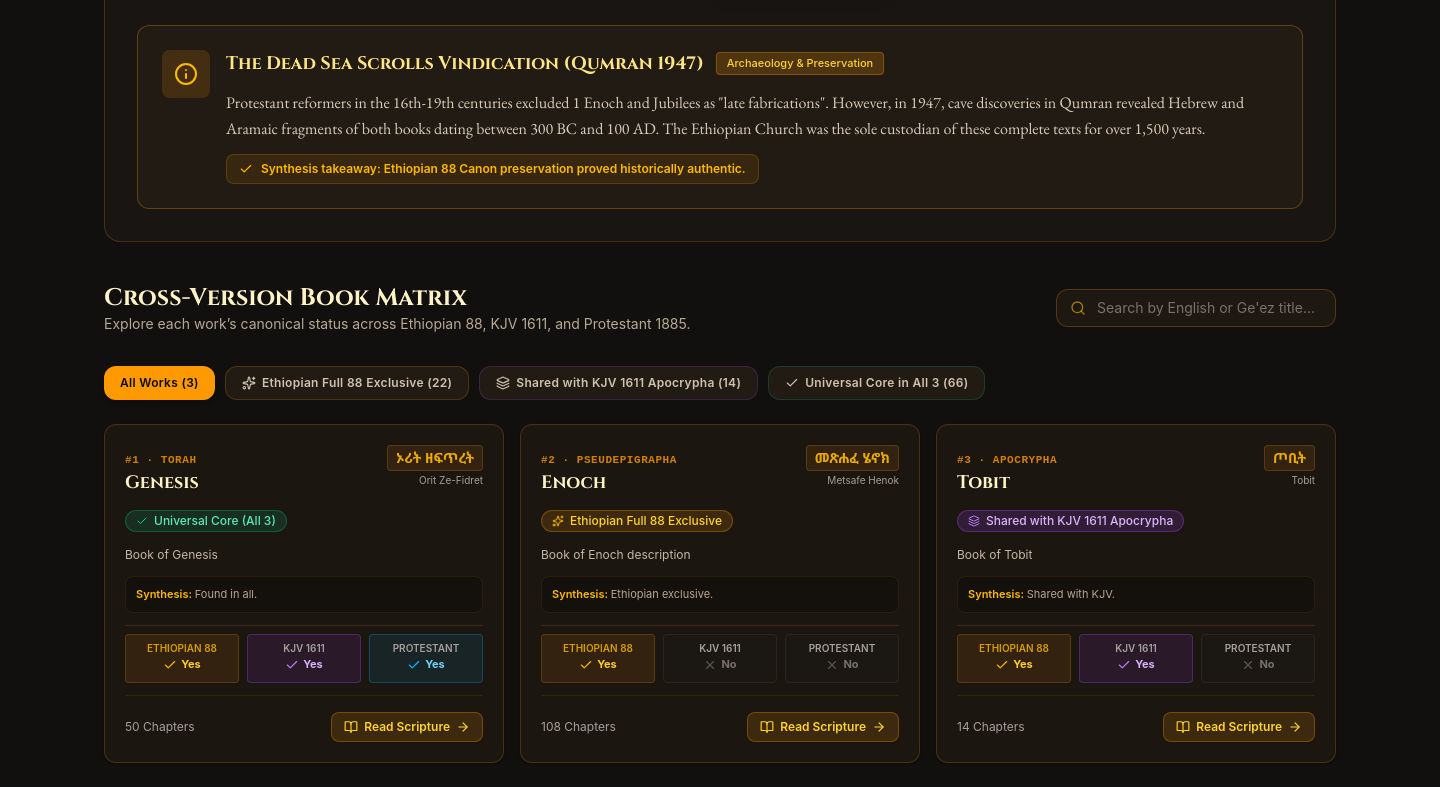
Test case: CanonDashboard Component › filters books by canon category
The width and height of the screenshot is (1440, 787).
(page scrolled)
Click Ethiopian Exclusive filter
Click the button "Ethiopian Full 88 Exclusive (22)" at (347, 383), box top-left (225, 366), bottom-right (469, 400)
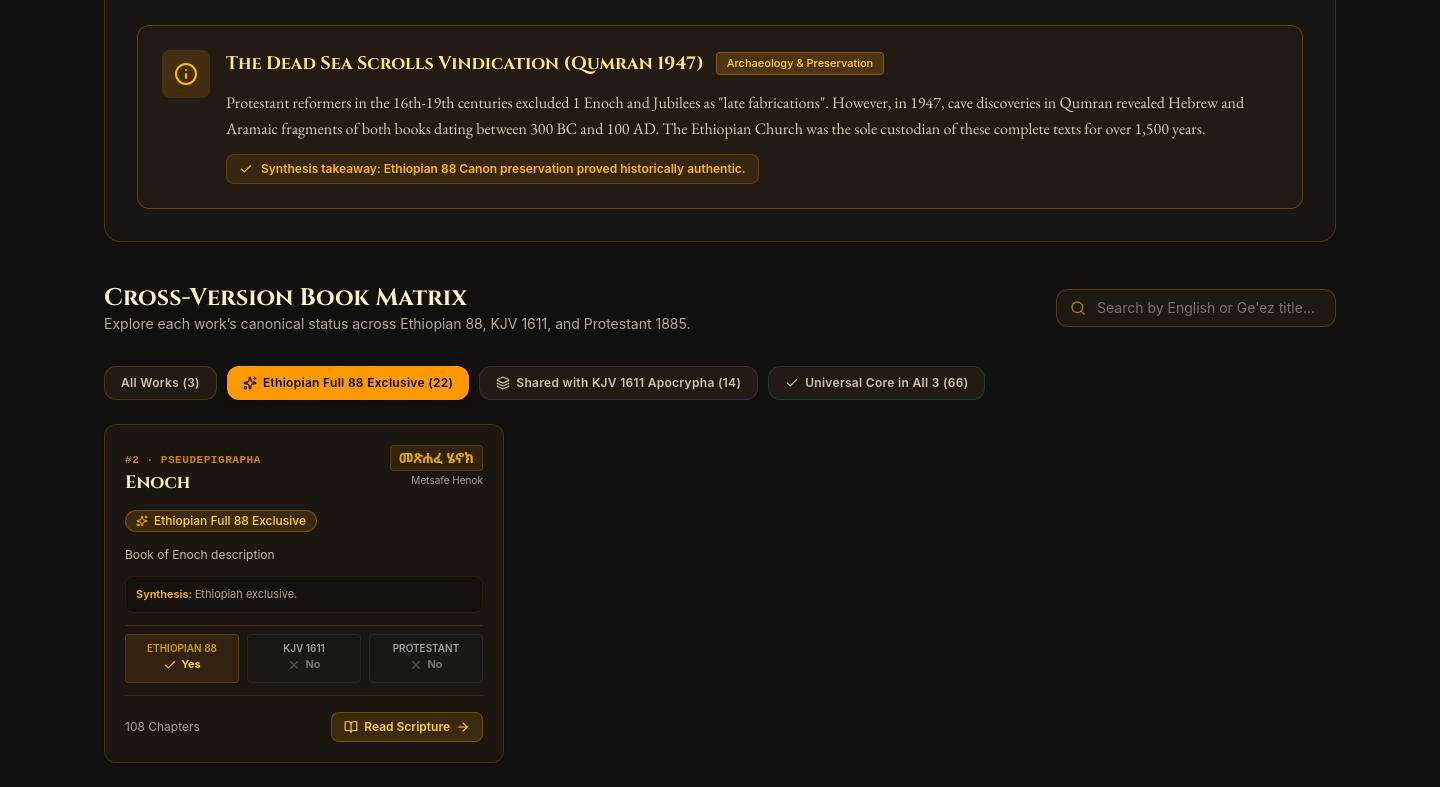
Check: the heading "Enoch" is shown, box top-left (125, 470), bottom-right (190, 495)
Check: the heading "Genesis" is gone
Click Universal Core filter
Click the button "Universal Core in All 3 (66)" at (877, 383), box top-left (768, 366), bottom-right (986, 400)
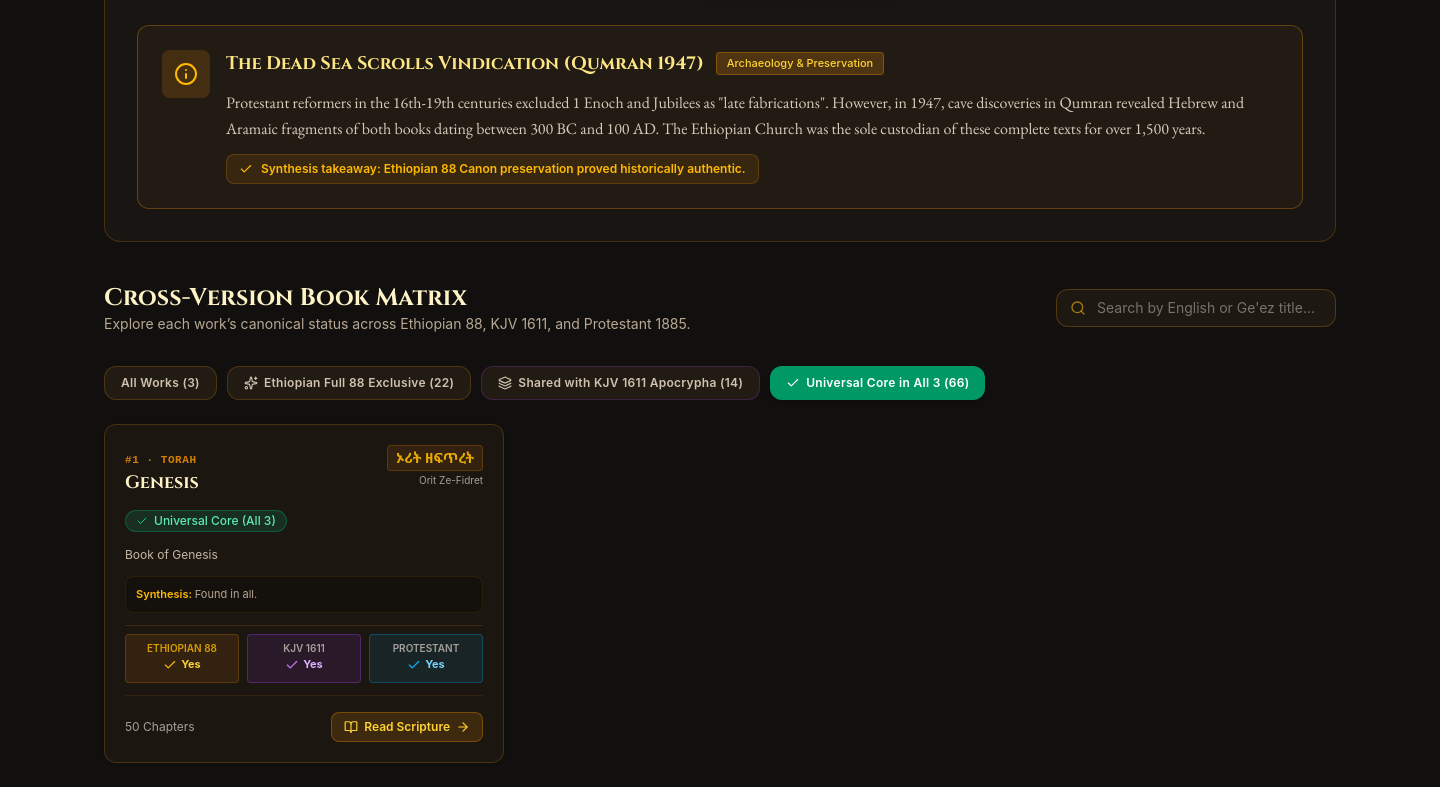
Check: the heading "Tobit" is not shown
Check: the heading "Genesis" is shown, box top-left (125, 469), bottom-right (199, 497)
Click KJV Shared filter
Click the button "Shared with KJV 1611 Apocrypha (14)" at (621, 383), box top-left (481, 366), bottom-right (760, 400)
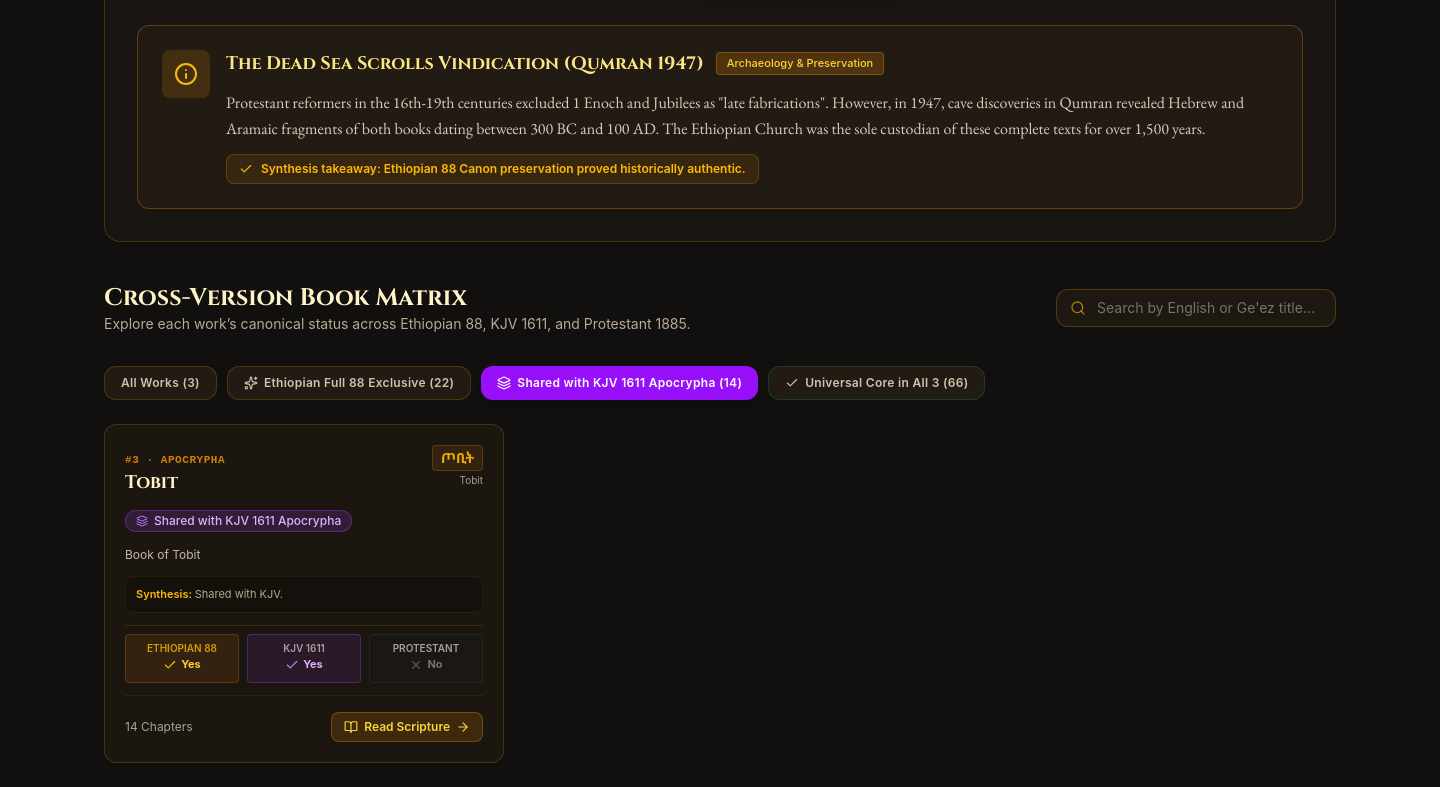
Check: the heading "Genesis" is gone
Check: the heading "Tobit" is shown, box top-left (125, 470), bottom-right (178, 495)
